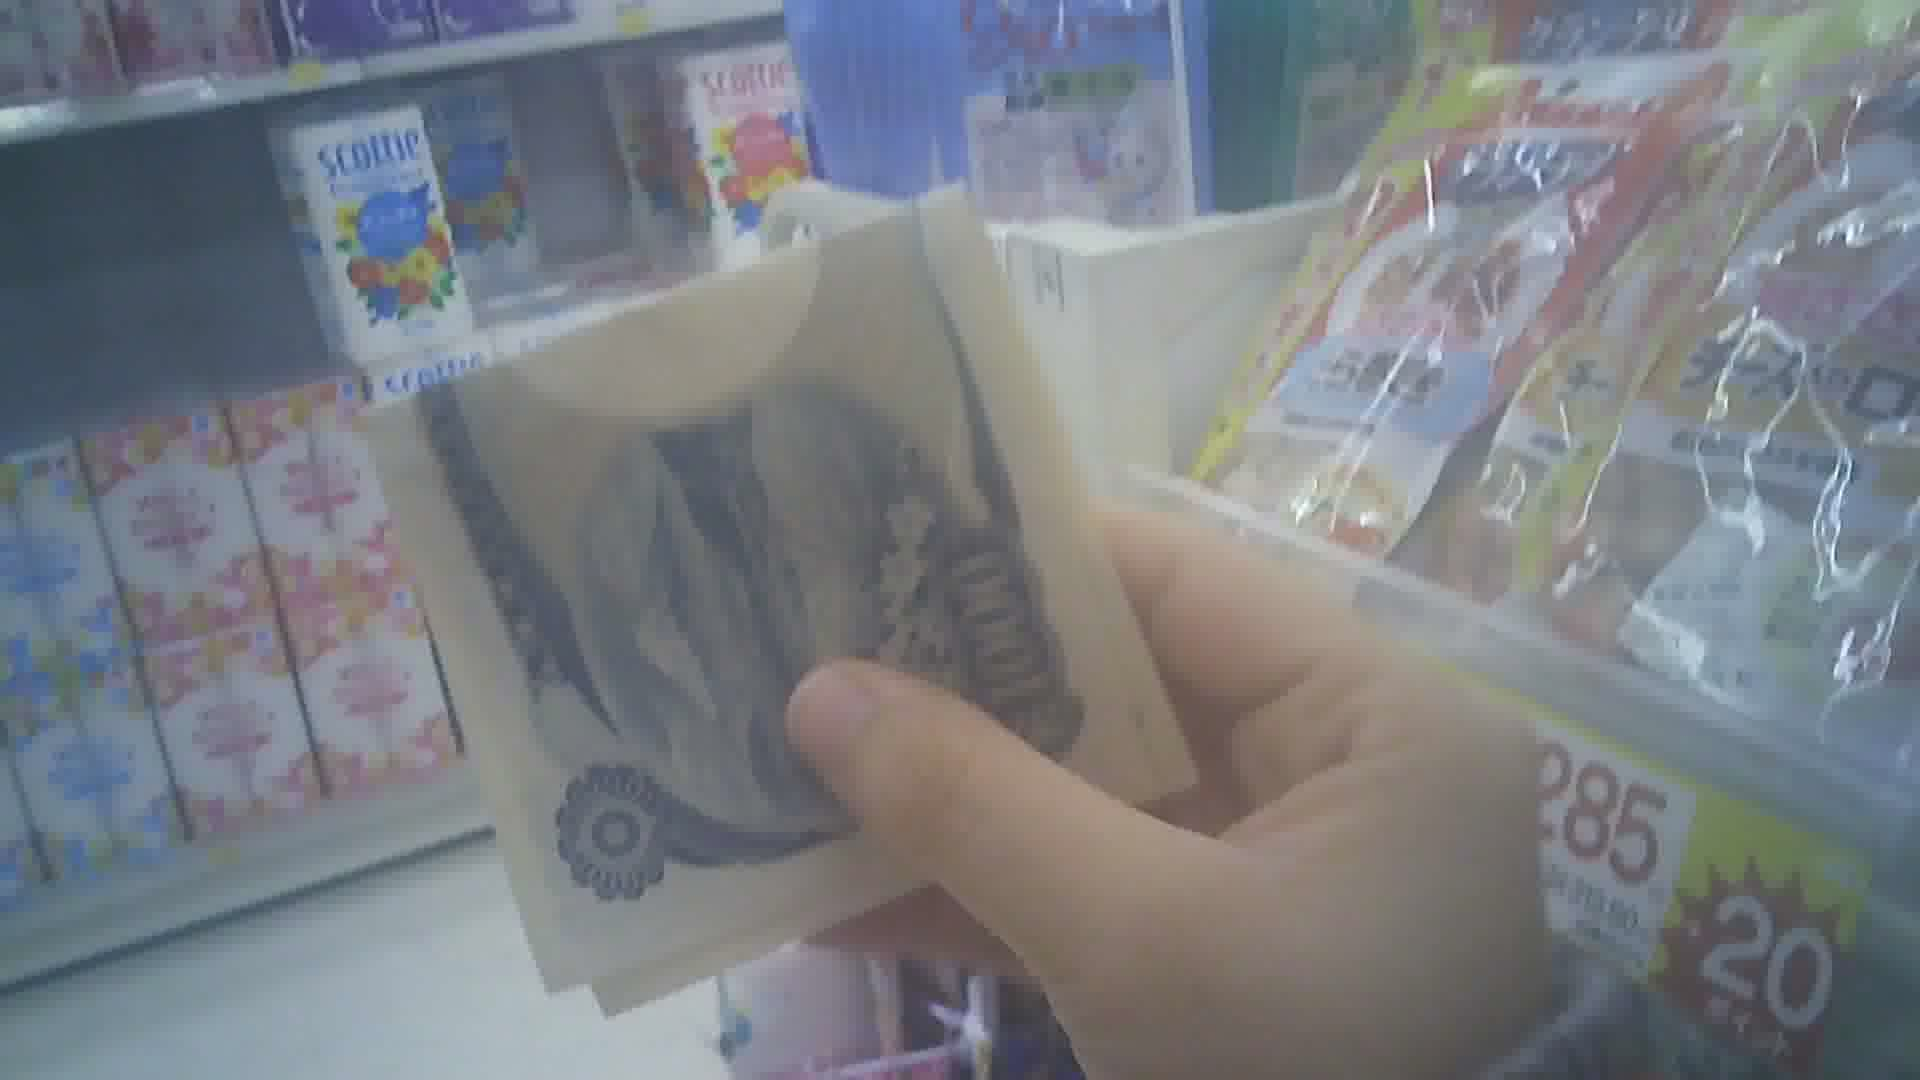1,000 Yen: (382, 208, 1149, 940)
